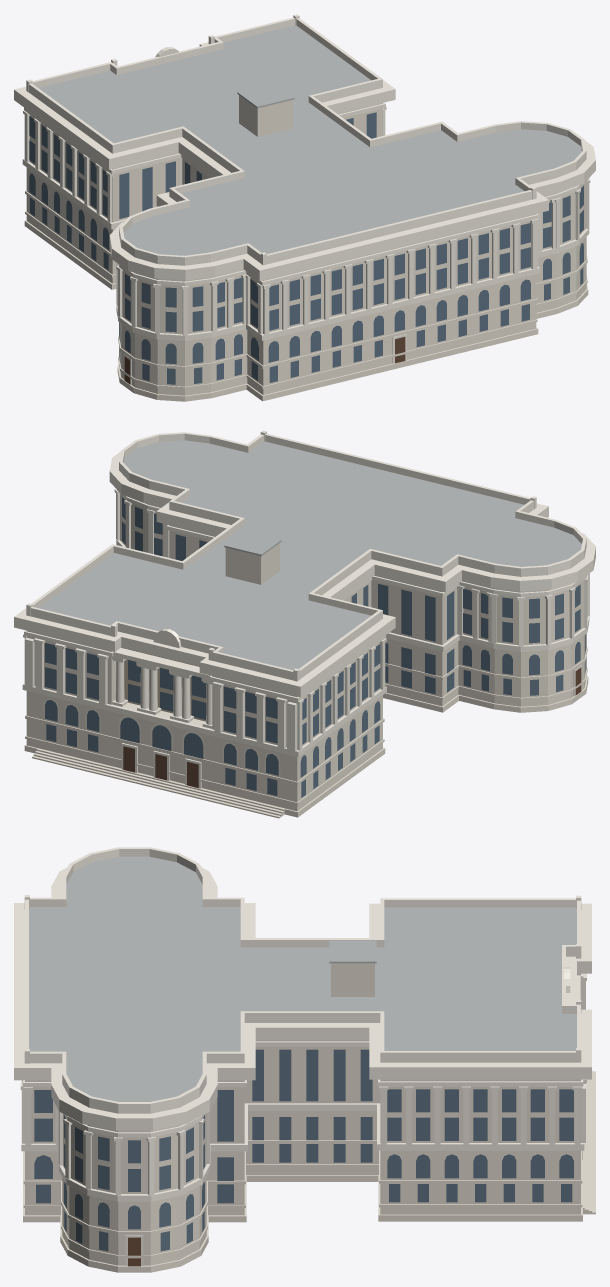
File: nola-louisiana-supreme-court.glb
3 renders of one model, top to bottom at view 1: azimuth 30°, elevation 25°; view 2: azimuth 150°, elevation 25°; view 3: azimuth 270°, elevation 25°, orthographic. The views are drawn at different scales.
Parts seen in each view (by area): view 1: Louisiana Supreme Court Building; view 2: Louisiana Supreme Court Building; view 3: Louisiana Supreme Court Building.
Boxes of the visible parts, bbox=[...] form: Louisiana Supreme Court Building: bbox=[14, 14, 595, 401]; Louisiana Supreme Court Building: bbox=[14, 430, 595, 818]; Louisiana Supreme Court Building: bbox=[14, 847, 595, 1272].
Bounding box in the file's own units: 92.27 × 31.8 × 85.38.
